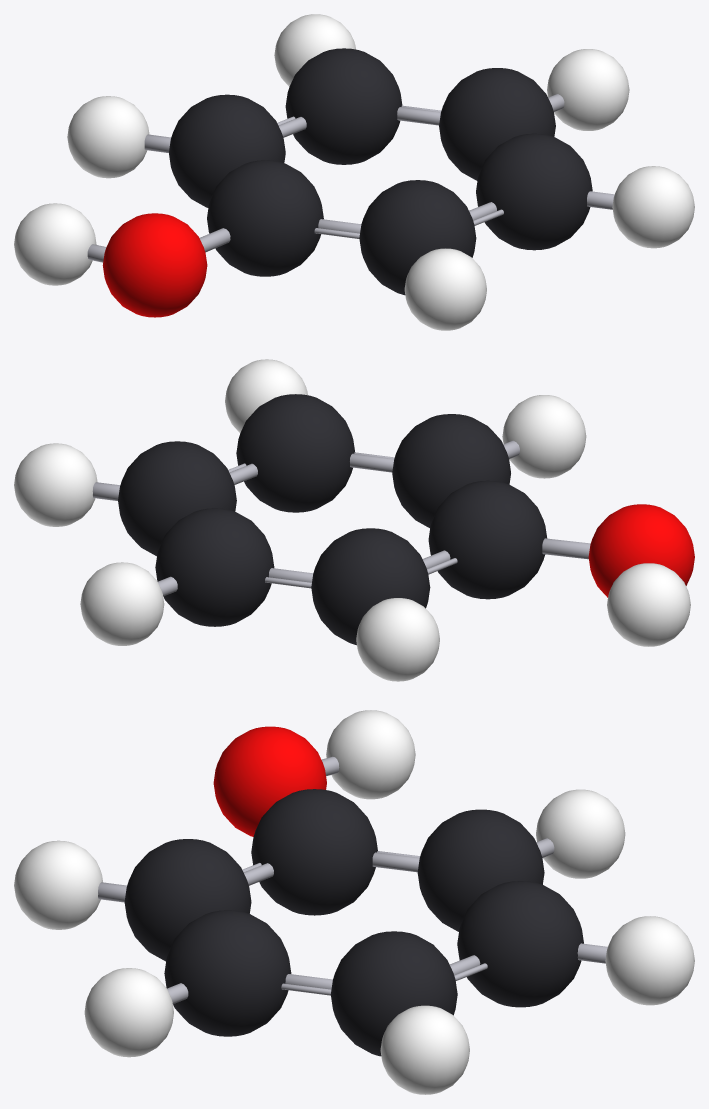
The model's file is phenol.glb.
3 renders of one model, top to bottom at view 1: azimuth 30°, elevation 25°; view 2: azimuth 150°, elevation 25°; view 3: azimuth 270°, elevation 25°, orthographic. The views are drawn at different scales.
Parts seen in each view (by area): view 1: C5, C1, C3, O0, C2, C6, C4, H8, H9, H12, H7, H10 (+2 smaller); view 2: C3, C5, C1, C6, C4, C2, O0, H7, H11, H12, H10, H8 (+3 smaller); view 3: C1, C3, C5, C4, C2, C6, O0, H11, H10, H9, H8, H7 (+2 smaller).
Part boxes in pixels (x1=…): C5: x1=285, y1=48, x2=402, y2=164; C1: x1=207, y1=160, x2=323, y2=276; C3: x1=476, y1=133, x2=592, y2=250; O0: x1=102, y1=213, x2=207, y2=317; C2: x1=359, y1=180, x2=476, y2=295; C6: x1=169, y1=94, x2=285, y2=207; C4: x1=439, y1=68, x2=555, y2=180; H8: x1=404, y1=248, x2=486, y2=330; H9: x1=612, y1=166, x2=694, y2=248; H12: x1=67, y1=96, x2=149, y2=178; H7: x1=14, y1=203, x2=96, y2=285; H10: x1=547, y1=49, x2=629, y2=130; C3: x1=236, y1=394, x2=354, y2=512; C5: x1=155, y1=508, x2=274, y2=626; C1: x1=428, y1=480, x2=547, y2=599; C6: x1=311, y1=528, x2=430, y2=645; C4: x1=118, y1=441, x2=236, y2=556; C2: x1=392, y1=414, x2=510, y2=528; O0: x1=588, y1=504, x2=694, y2=597; H7: x1=607, y1=563, x2=690, y2=646; H11: x1=80, y1=562, x2=164, y2=645; H12: x1=356, y1=598, x2=439, y2=681; H10: x1=14, y1=443, x2=97, y2=526; H8: x1=502, y1=395, x2=586, y2=478; C1: x1=251, y1=789, x2=377, y2=915; C3: x1=164, y1=910, x2=291, y2=1036; C5: x1=457, y1=881, x2=583, y2=1007; C4: x1=330, y1=931, x2=457, y2=1056; C2: x1=124, y1=839, x2=251, y2=961; C6: x1=417, y1=809, x2=544, y2=931; O0: x1=213, y1=726, x2=326, y2=836; H11: x1=605, y1=916, x2=694, y2=1005; H10: x1=380, y1=1005, x2=469, y2=1094; H9: x1=84, y1=968, x2=173, y2=1057; H8: x1=14, y1=840, x2=102, y2=929; H7: x1=326, y1=710, x2=415, y2=799.
Size of the model in its own units: 6.34 by 1.02 by 5.47.
